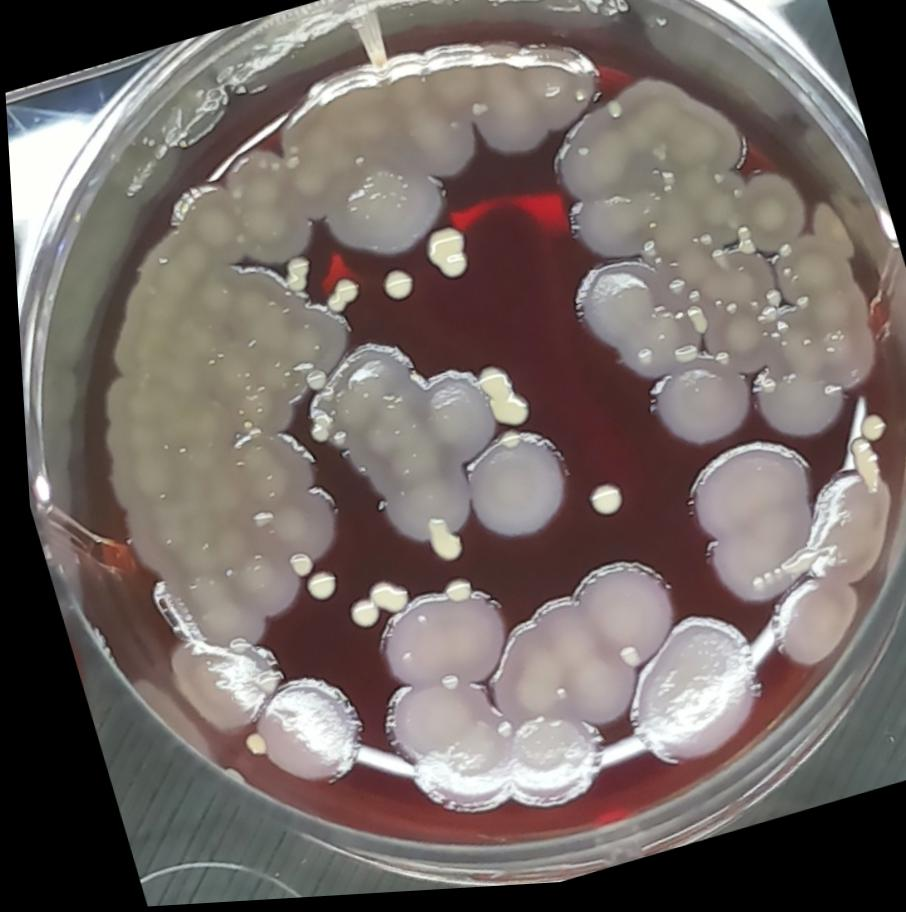staphylo-: (469, 359, 529, 438), (414, 224, 474, 292), (411, 515, 460, 574), (840, 441, 882, 507), (357, 575, 407, 624), (576, 482, 623, 529), (315, 277, 364, 322), (372, 267, 416, 313), (273, 254, 315, 300), (294, 568, 334, 610), (338, 598, 374, 638), (432, 577, 470, 613), (851, 417, 885, 456), (299, 414, 332, 451), (277, 550, 309, 585), (678, 309, 707, 347), (606, 648, 637, 683), (230, 731, 262, 764), (426, 670, 455, 701), (664, 350, 696, 377), (297, 369, 325, 399), (480, 721, 506, 750), (661, 282, 686, 309), (756, 293, 780, 320), (464, 101, 488, 128), (601, 104, 623, 132), (754, 311, 775, 335), (732, 246, 753, 267), (729, 231, 750, 251), (772, 250, 789, 270)
